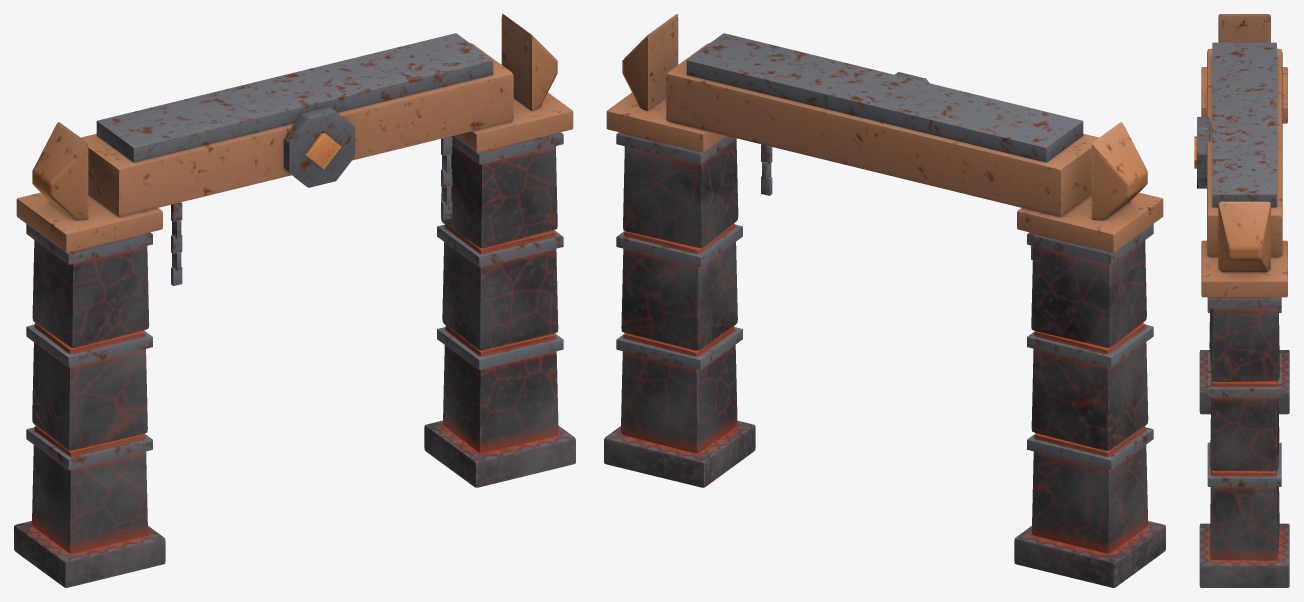
File: Volcan_PorteForge.fbx
The picture shows the model from 3 angles, left to right: view 1: azimuth 30°, elevation 25°; view 2: azimuth 150°, elevation 25°; view 3: azimuth 270°, elevation 25°; orthographic projection. The views are drawn at different scales.
Visible parts, largest first — view 1: Volcan_PorteForge; view 2: Volcan_PorteForge; view 3: Volcan_PorteForge.
Boxes of the visible parts, x1=… form: Volcan_PorteForge: x1=14, y1=14, x2=575, y2=587; Volcan_PorteForge: x1=604, y1=14, x2=1165, y2=587; Volcan_PorteForge: x1=1194, y1=14, x2=1289, y2=587.
Size of the model in its own units: 2840 by 2280 by 530.
1 material, 1 textured.
